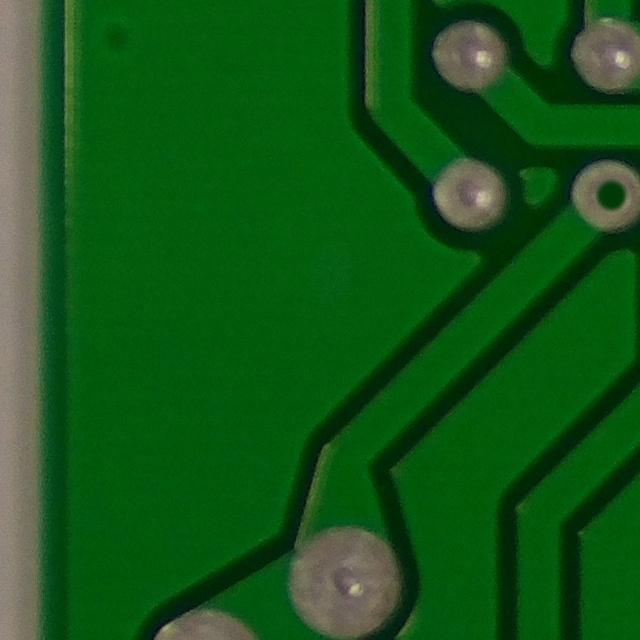missing_hole: (563, 148, 640, 237)
